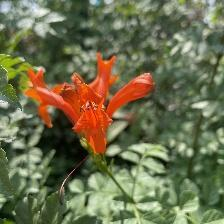honeysuckle: (63, 75, 113, 149)
